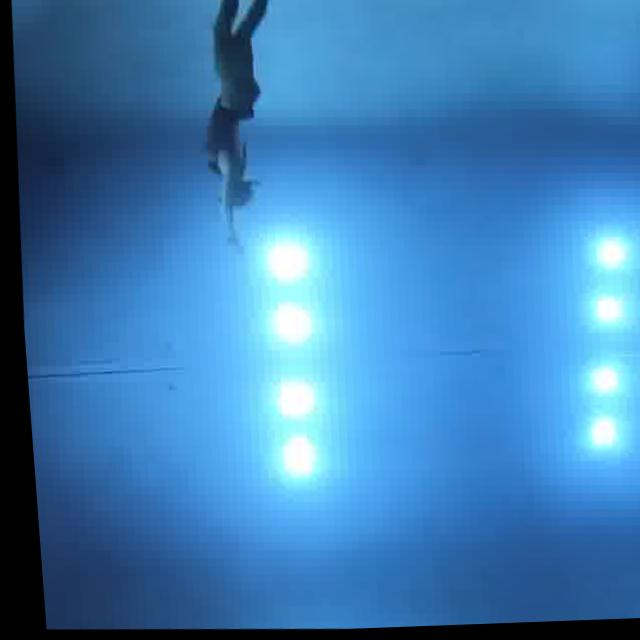human: (184, 0, 310, 272)
